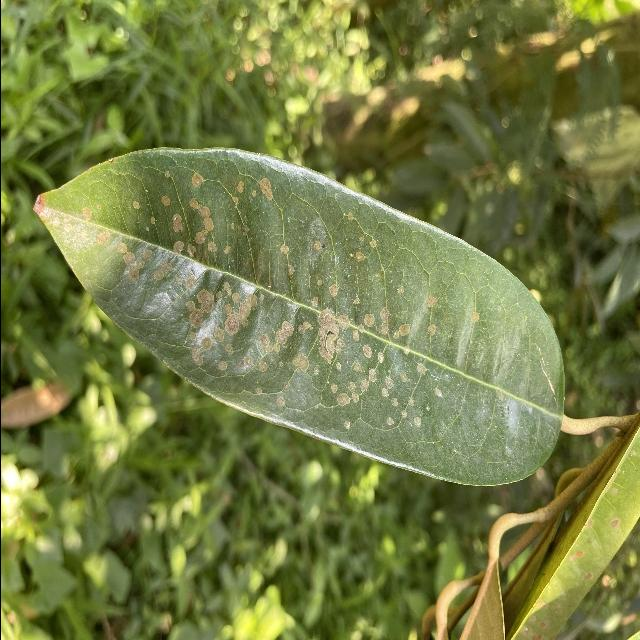Algal Leaf Spot: (28, 131, 579, 497)
